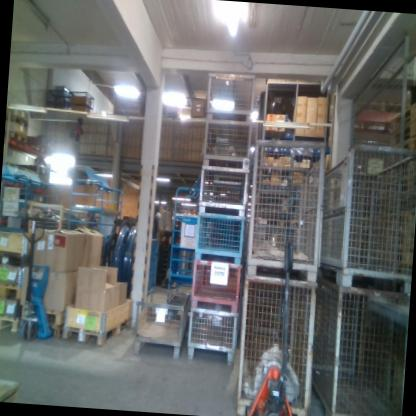pallet: (61, 311, 133, 349), (392, 97, 416, 133), (392, 119, 416, 146), (0, 249, 31, 269), (0, 282, 23, 304), (0, 314, 21, 334), (5, 114, 28, 129)
pallet_truck: (240, 237, 318, 416), (12, 213, 63, 344)
stillage: (318, 139, 416, 296), (308, 274, 410, 416), (232, 259, 322, 416), (242, 136, 329, 283), (133, 287, 192, 360), (185, 305, 239, 367), (192, 211, 246, 266), (189, 262, 242, 314), (197, 165, 251, 216), (204, 72, 256, 123), (200, 119, 254, 168)
